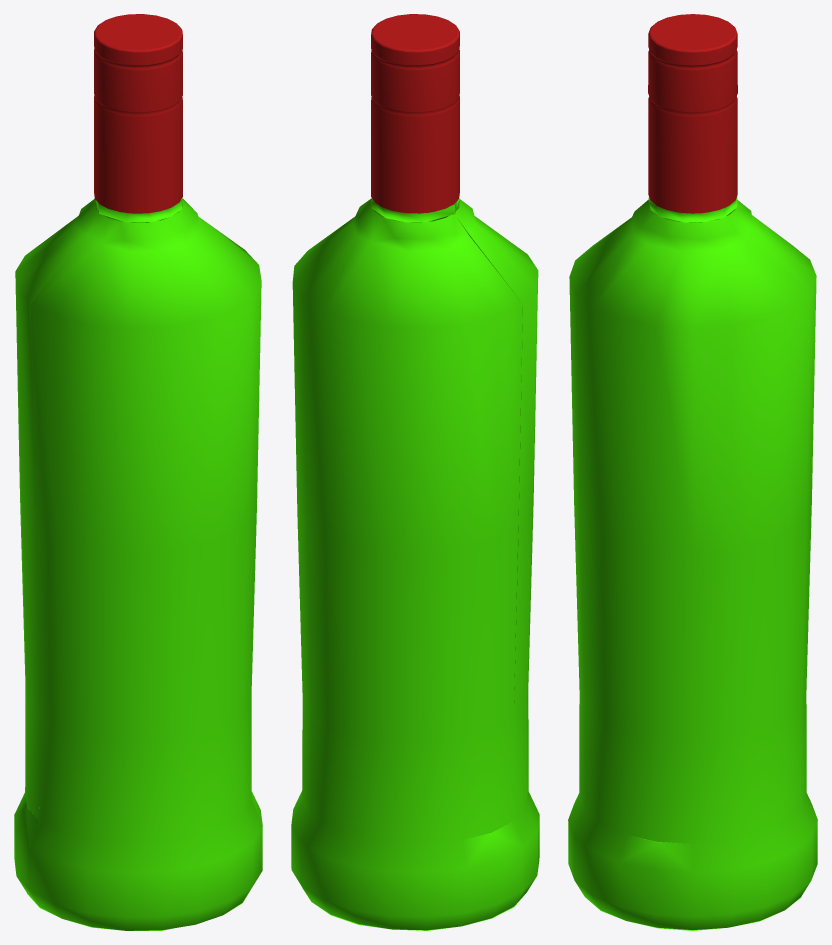
Rendered from vodka_edited.gltf.
3 views of the same model, side by side, from view 1: azimuth 30°, elevation 25°; view 2: azimuth 150°, elevation 25°; view 3: azimuth 270°, elevation 25° (orthographic).
Visible parts, largest first — view 1: pCylinder1, pCylinder1_Bottlecap_0; view 2: pCylinder1, pCylinder1_Bottlecap_0; view 3: pCylinder1, pCylinder1_Bottlecap_0.
Part boxes in pixels (box(x1,y1,x2,y2)): pCylinder1: box(14, 198, 262, 930); pCylinder1_Bottlecap_0: box(94, 14, 182, 213); pCylinder1: box(291, 198, 539, 930); pCylinder1_Bottlecap_0: box(371, 14, 459, 213); pCylinder1: box(568, 196, 817, 930); pCylinder1_Bottlecap_0: box(648, 14, 737, 213).
Size of the model in its own units: 0.02 by 0.075 by 0.02.
2 materials, 1 textured.
